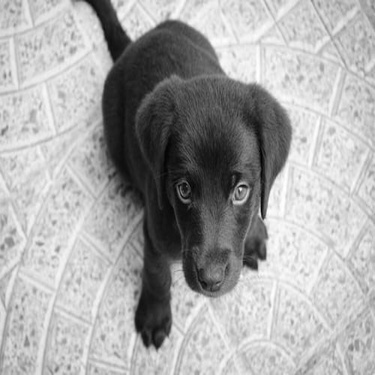dog: (79, 1, 292, 352)
